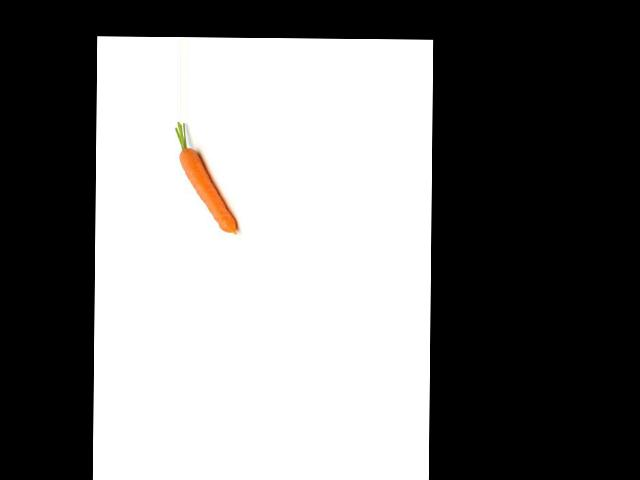carrot: (178, 145, 238, 235)
